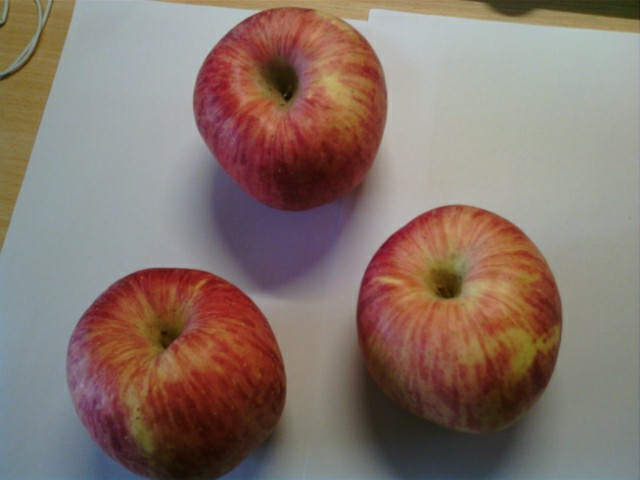normal_apple: (354, 204, 563, 440), (68, 268, 286, 480), (191, 7, 389, 208)
